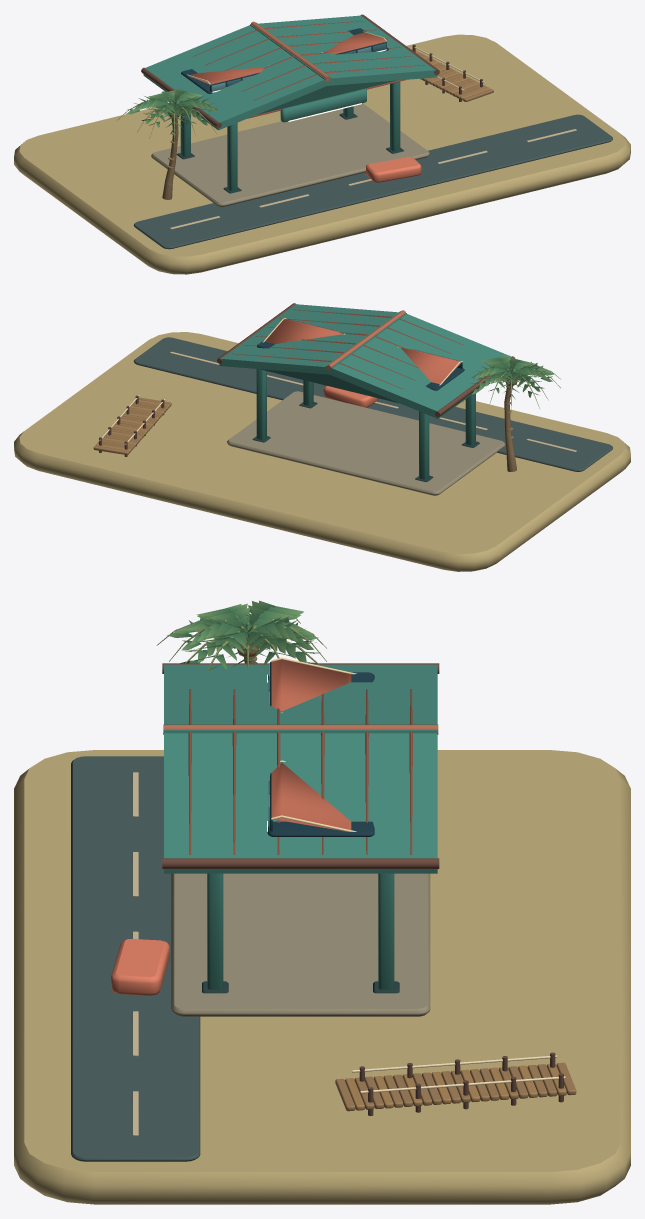
File: tropical_atlas.glb
3 views of the same model, one above another, from view 1: azimuth 30°, elevation 25°; view 2: azimuth 150°, elevation 25°; view 3: azimuth 270°, elevation 25° (orthographic). The views are drawn at different scales.
Visible parts, largest first — view 1: TropicalAtlas; view 2: TropicalAtlas; view 3: TropicalAtlas.
Part boxes in pixels (bbox=[...]): TropicalAtlas: bbox=[14, 14, 630, 274]; TropicalAtlas: bbox=[14, 303, 630, 571]; TropicalAtlas: bbox=[14, 600, 630, 1204].
Size of the model in its own units: 10.8 by 2.74 by 6.54.
